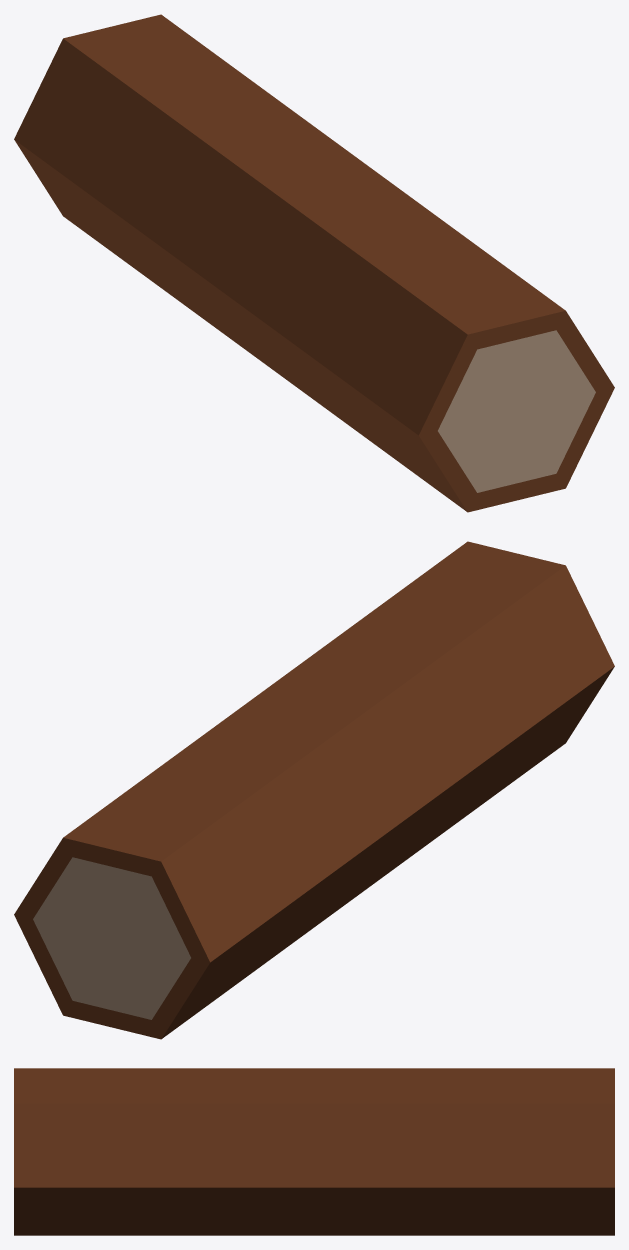
Rendered from DroppedLog.fbx.
The picture shows the model from 3 angles, top to bottom: view 1: azimuth 30°, elevation 25°; view 2: azimuth 150°, elevation 25°; view 3: azimuth 270°, elevation 25°; orthographic projection. The views are drawn at different scales.
Visible parts, largest first — view 1: droppedTree; view 2: droppedTree; view 3: droppedTree.
Part boxes in pixels (<box>): droppedTree: <box>14,14,614,512</box>; droppedTree: <box>14,541,614,1039</box>; droppedTree: <box>14,1068,614,1235</box>.
Bounding box in the file's own units: 8.03 × 6.96 × 28.69.
